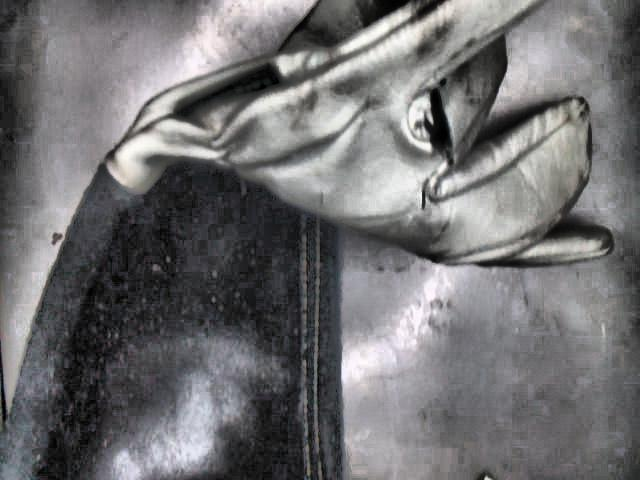Almennt: (0, 0, 614, 480)
